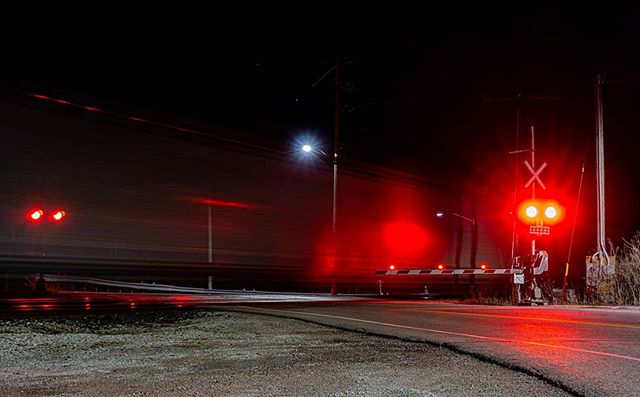street: (246, 298, 640, 397)
train: (1, 92, 517, 288)
